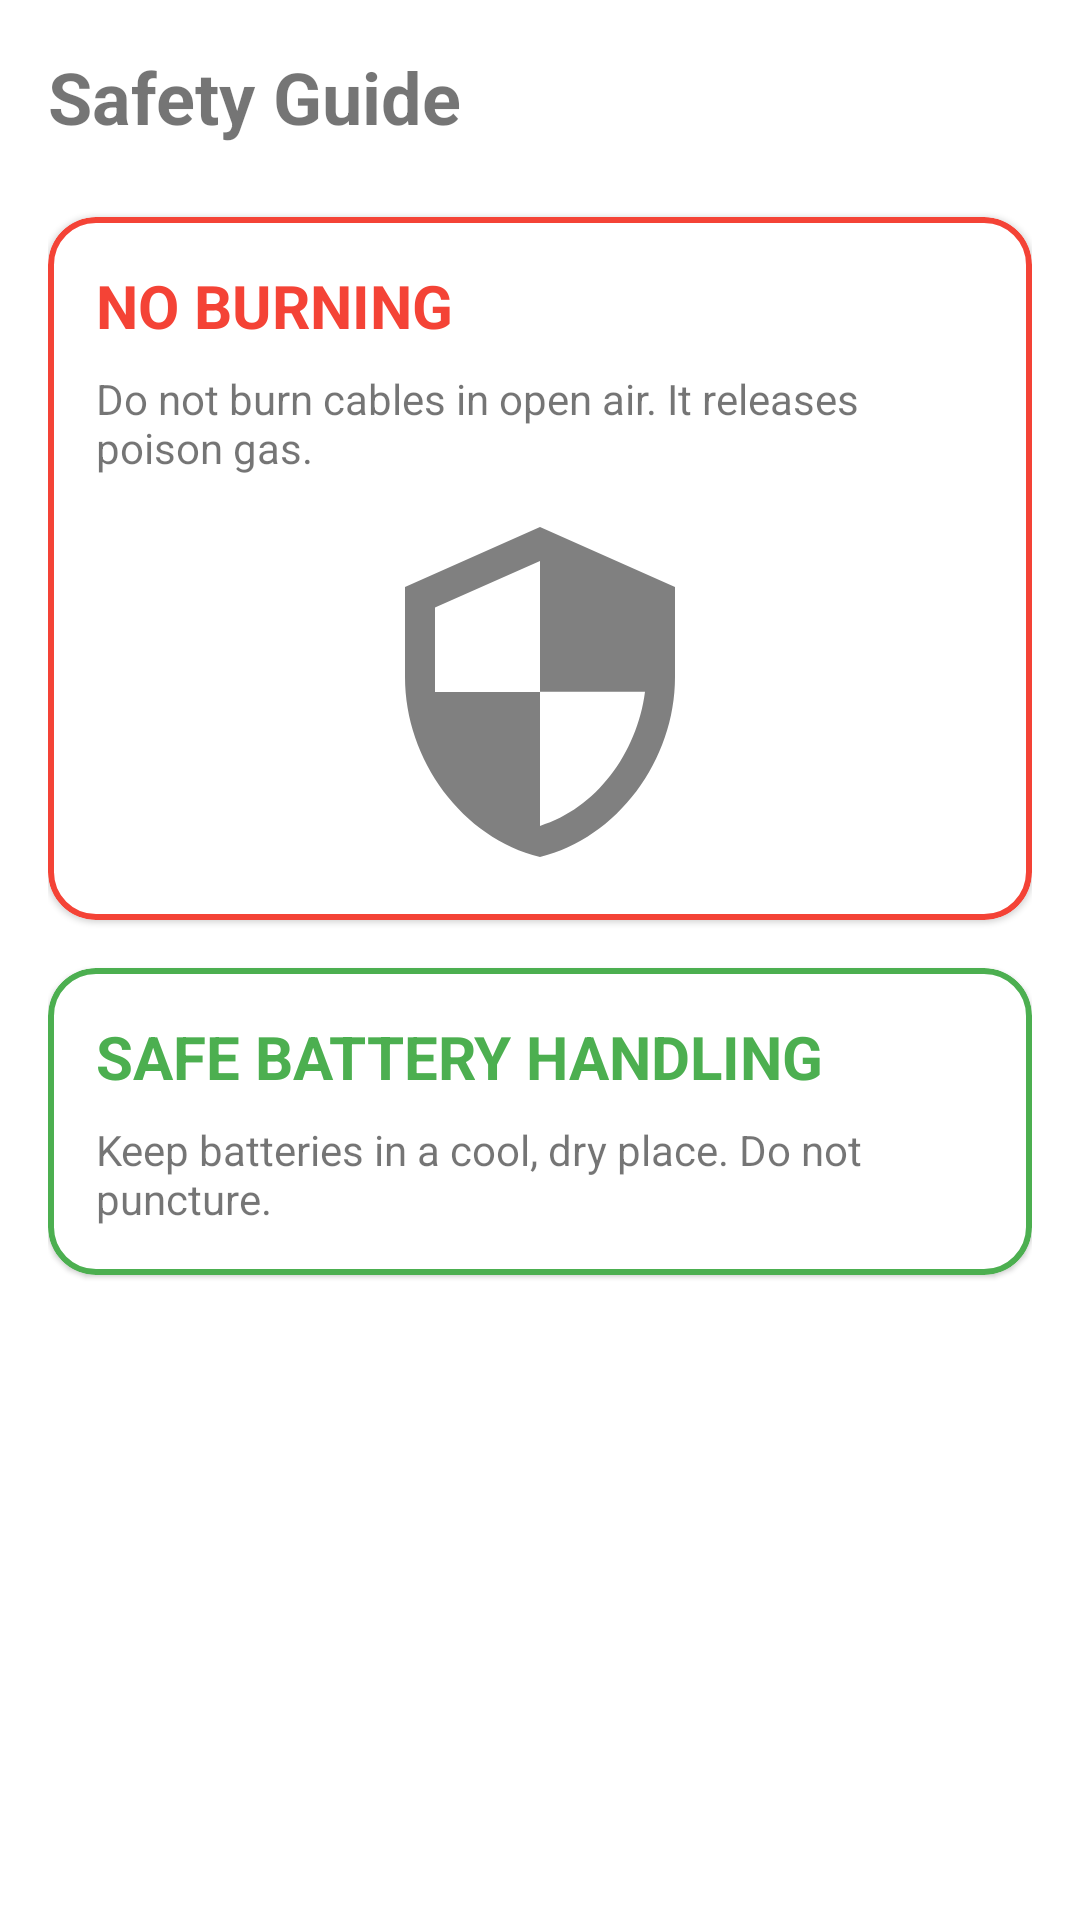

Where icons sit on this 1080 x 1920 app screen, as bbox=(x1, y1, x2, y2):
safety: bbox=(405, 527, 675, 857)
